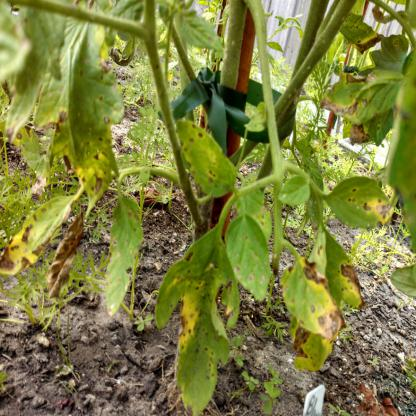tomato septoria leaf spot: (153, 224, 248, 413), (94, 176, 149, 334), (312, 223, 377, 321), (277, 235, 336, 341), (172, 118, 239, 204), (223, 207, 276, 306), (328, 170, 396, 230)
